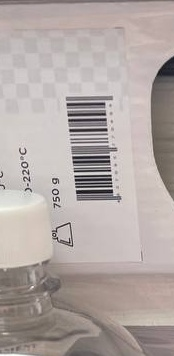1d: (66, 95, 114, 202)
